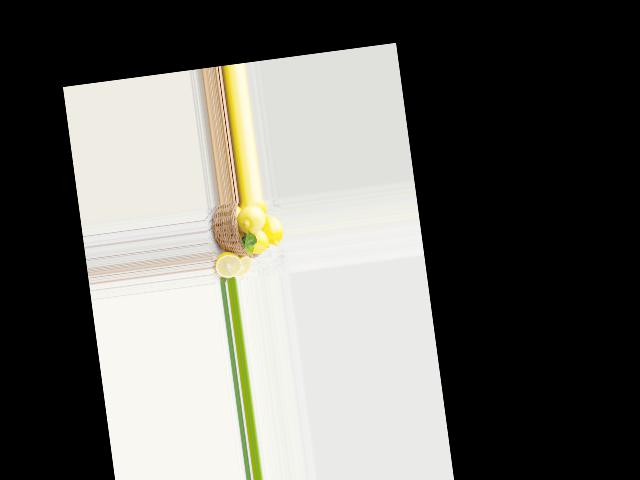lemon: (241, 226, 271, 257)
